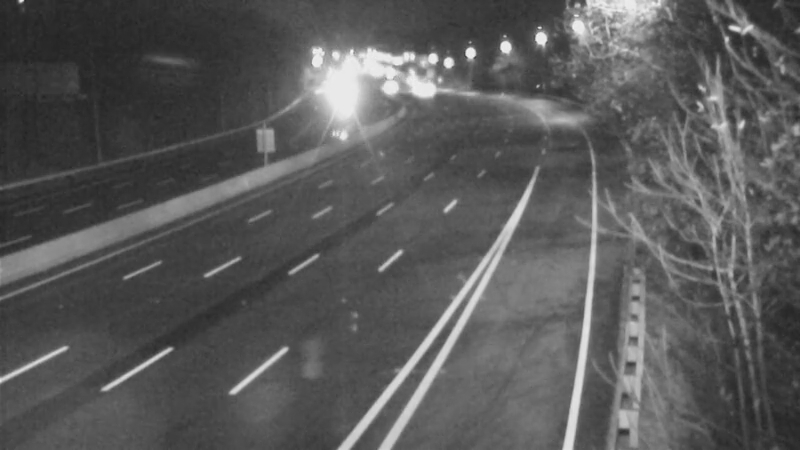vehicle: (386, 53, 436, 103), (364, 62, 414, 112), (400, 68, 450, 118), (317, 77, 367, 127)
